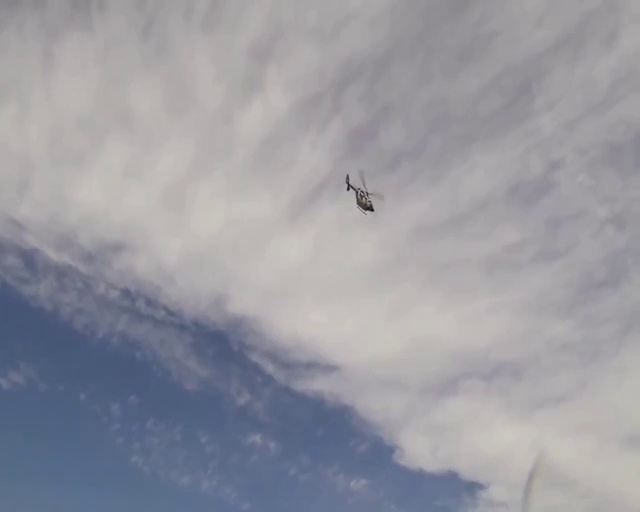HELICOPTER: (344, 169, 381, 214)
